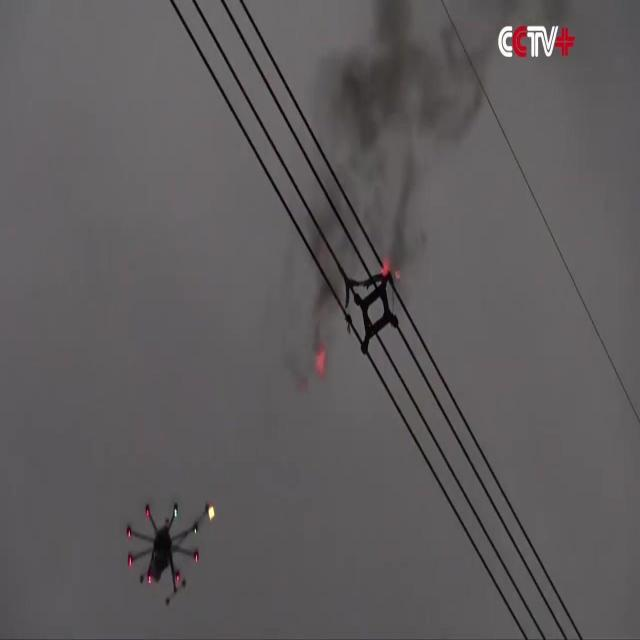drone: (125, 496, 210, 608)
